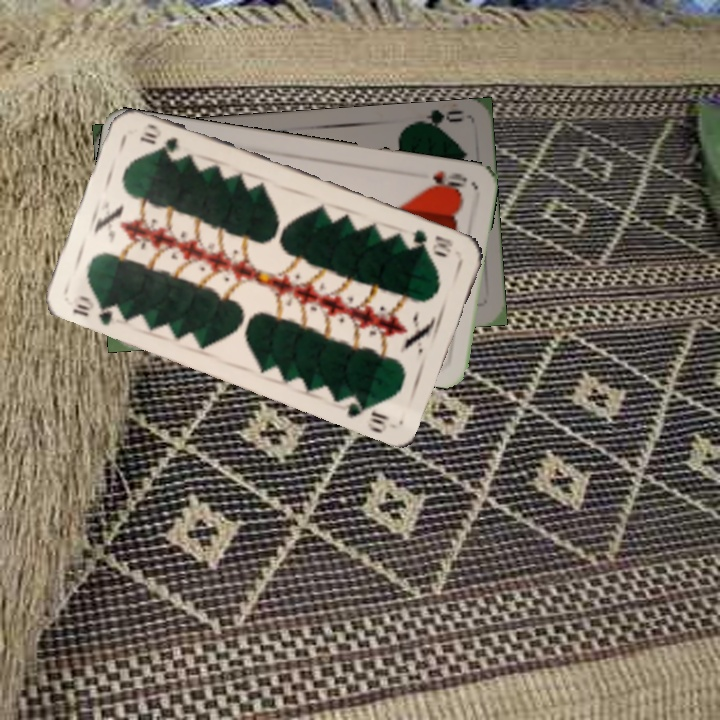G10: (68, 291, 125, 328), (407, 225, 456, 260)
GO: (408, 106, 465, 134)
HO: (422, 167, 470, 194)
